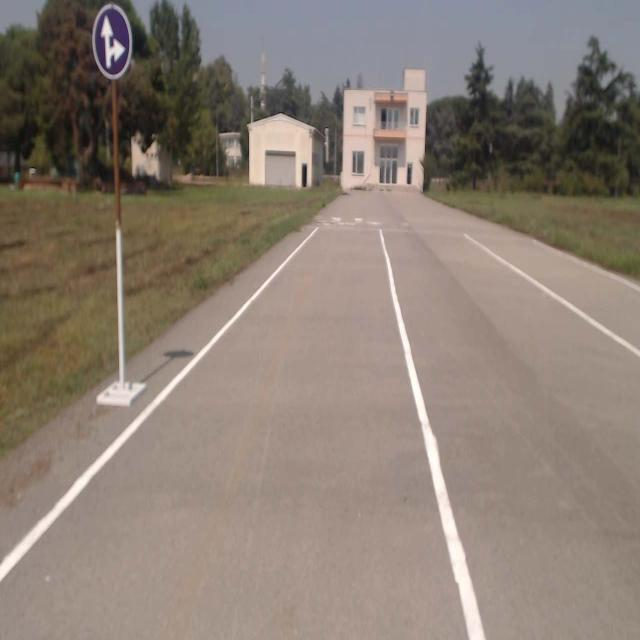ilerisag: (92, 7, 134, 80)
